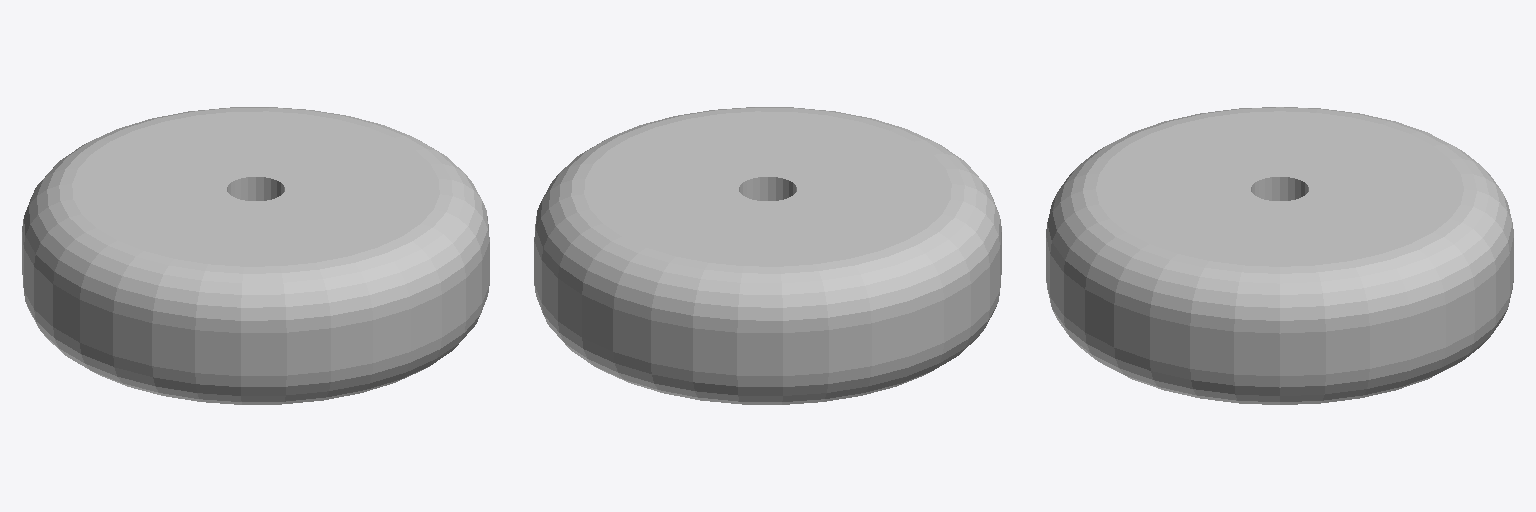
Rendered from right_wheel_link__in_Wheel_Stand_In.obj.
The picture shows the model from 3 angles: view 1: azimuth 30°, elevation 25°; view 2: azimuth 150°, elevation 25°; view 3: azimuth 270°, elevation 25°; orthographic projection.
Bounding box in the file's own units: 0.2032 × 0.064 × 0.2032.